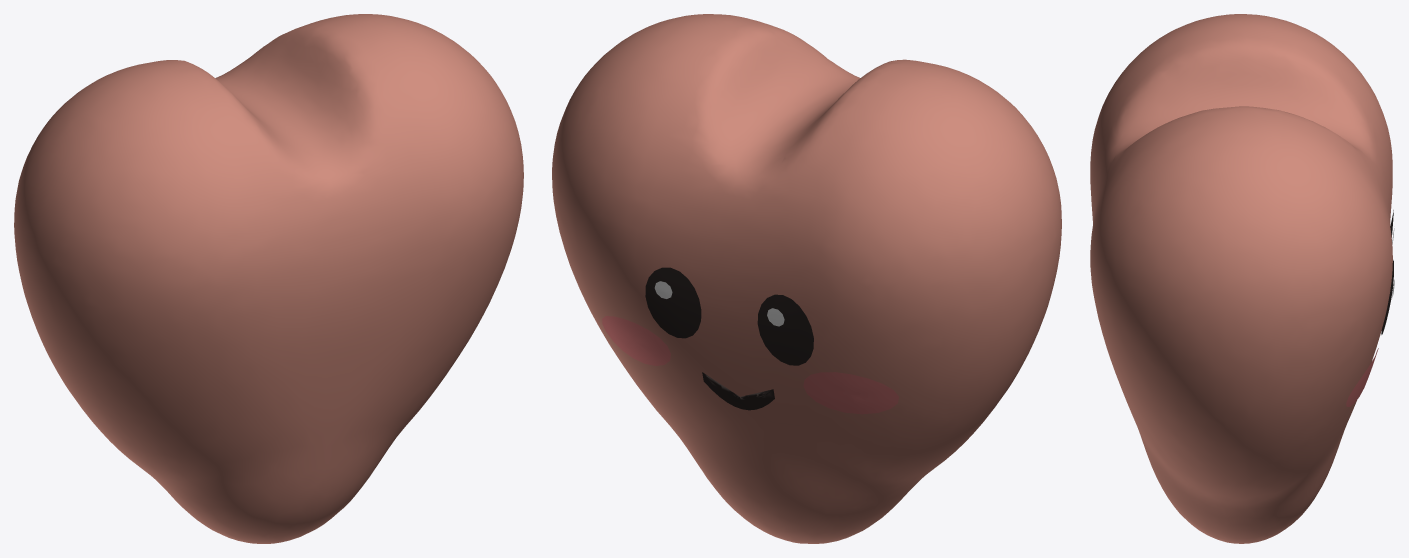
File: heart.glb
3 renders of one model, left to right at view 1: azimuth 30°, elevation 25°; view 2: azimuth 150°, elevation 25°; view 3: azimuth 270°, elevation 25°, orthographic. The views are drawn at different scales.
Visible parts, largest first — view 1: HeartBody; view 2: HeartBody, Blush0, Eye0, Eye2, Blush2, Mouth; view 3: HeartBody, Blush2.
Part boxes in pixels (left/top/right/bottom): HeartBody: left=14, top=14, right=523, bottom=543; HeartBody: left=552, top=14, right=1061, bottom=543; Blush0: left=803, top=372, right=898, bottom=414; Eye0: left=757, top=294, right=813, bottom=365; Eye2: left=645, top=267, right=701, bottom=338; Blush2: left=602, top=316, right=670, bottom=365; Mouth: left=702, top=372, right=774, bottom=410; HeartBody: left=1090, top=14, right=1392, bottom=543; Blush2: left=1346, top=348, right=1378, bottom=406.
Size of the model in its own units: 0.267 by 0.2639 by 0.1578.
